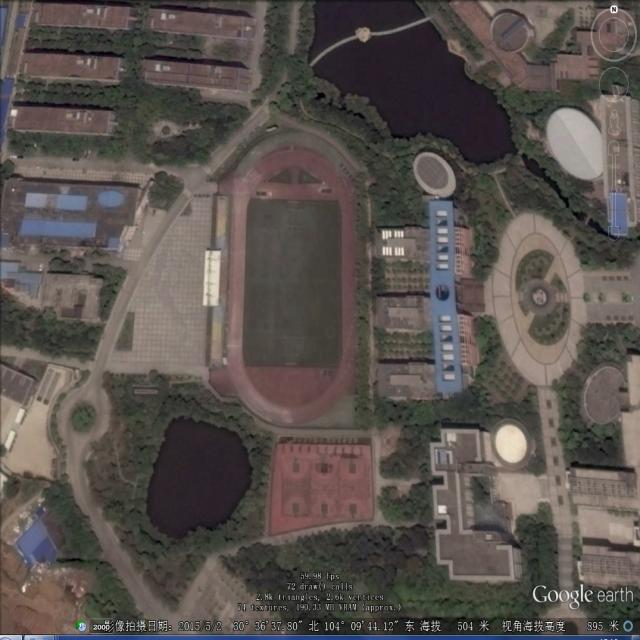playground: (226, 143, 359, 428)
